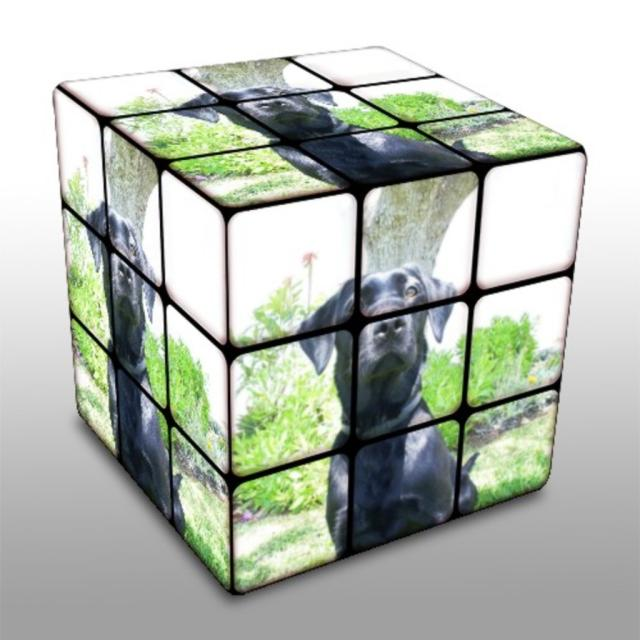Toy: (51, 45, 588, 596)
